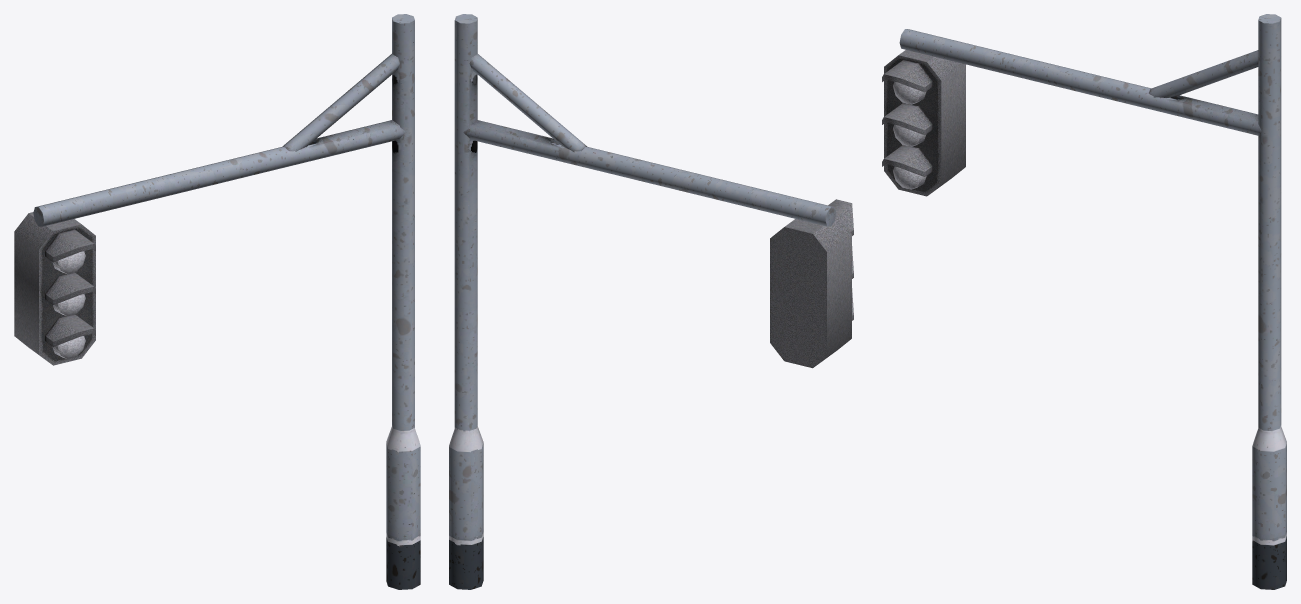
The model's file is StartLight2.gltf.
The picture shows the model from 3 angles, left to right: view 1: azimuth 30°, elevation 25°; view 2: azimuth 150°, elevation 25°; view 3: azimuth 330°, elevation 25°; orthographic projection.
Visible parts, largest first — view 1: TLight, Mesh02; view 2: TLight, Mesh02; view 3: TLight, Mesh02.
Part boxes in pixels (<box>): TLight: <box>33,14,420,589</box>; Mesh02: <box>14,212,95,365</box>; TLight: <box>449,14,836,589</box>; Mesh02: <box>770,199,853,368</box>; TLight: <box>899,14,1286,589</box>; Mesh02: <box>882,50,965,196</box>.
Bounding box in the file's own units: 3.24 × 4.47 × 0.6399.
Materials: 3 (3 with a texture image).
